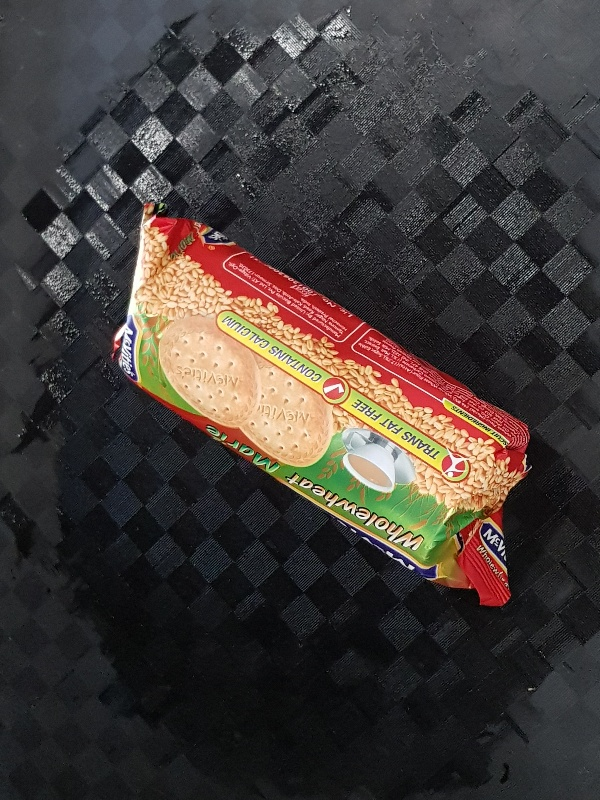McVitie's Wholewheat Marie: (110, 200, 532, 604)
